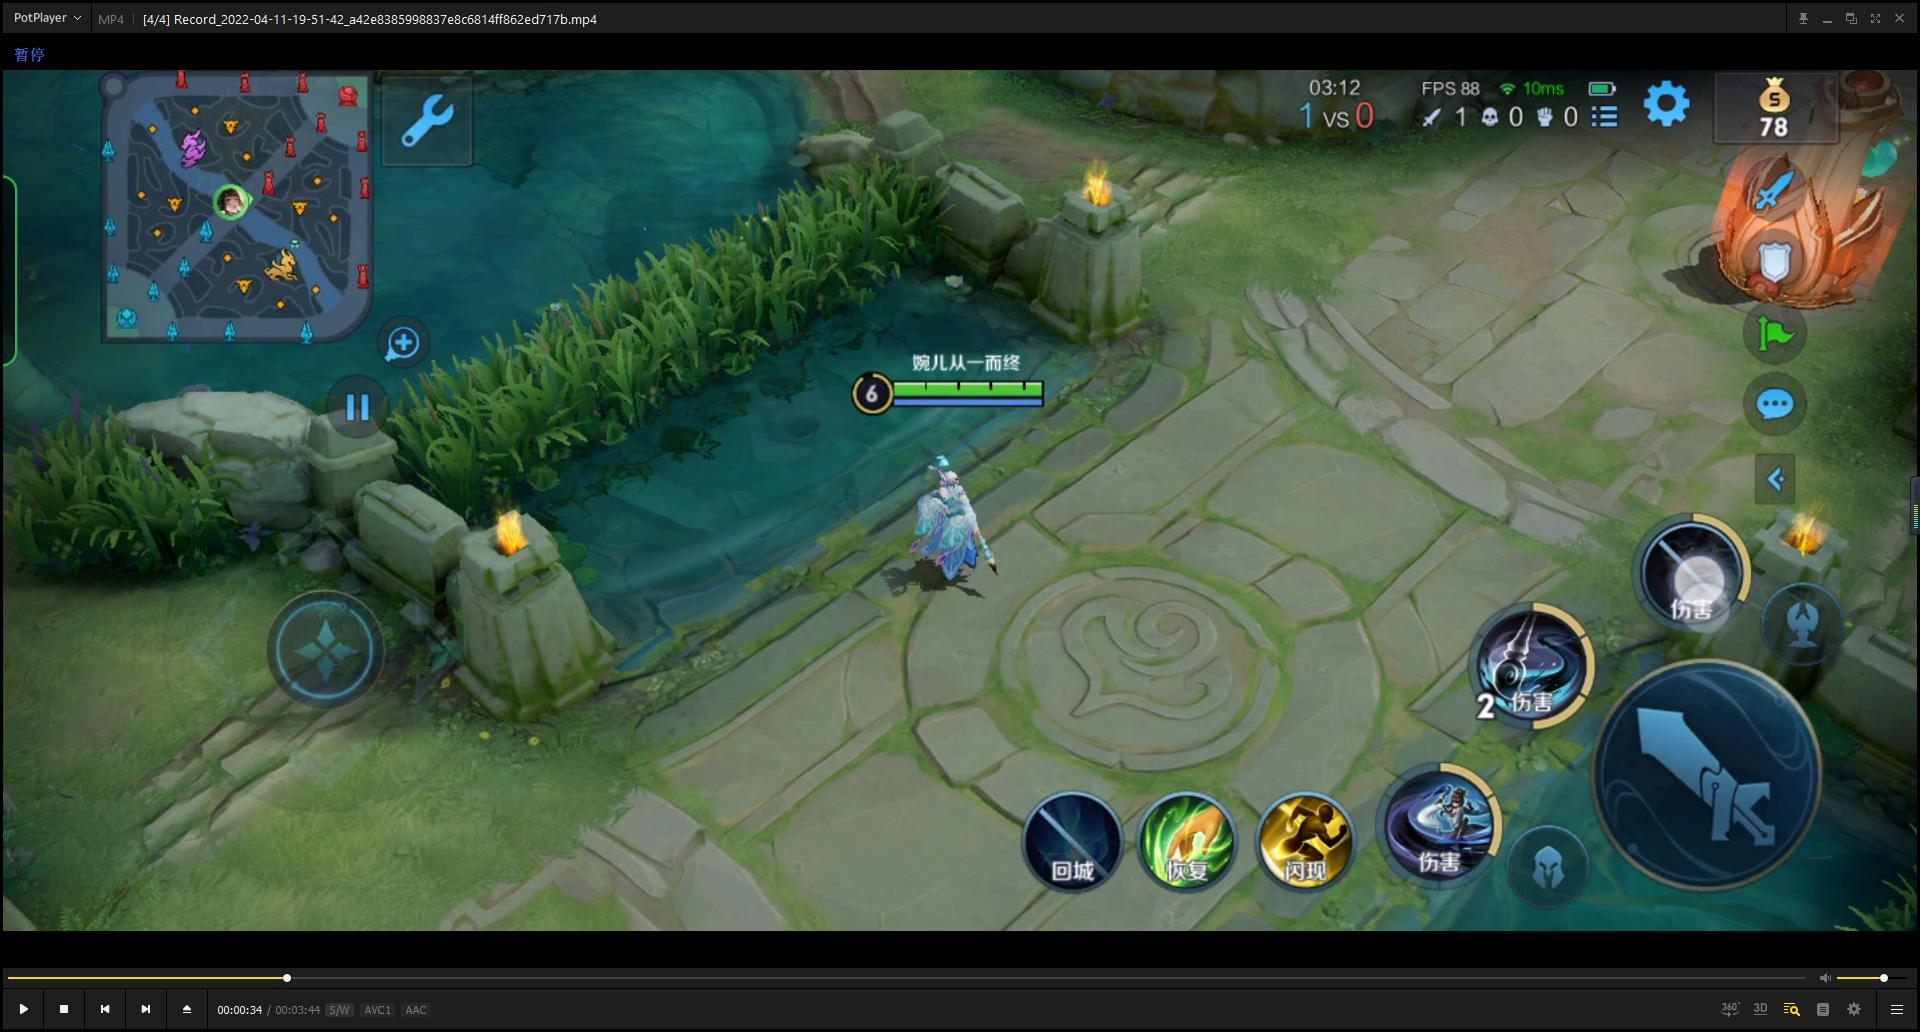Hero: (901, 444, 1010, 596)
Tower: (1707, 66, 1915, 313)
